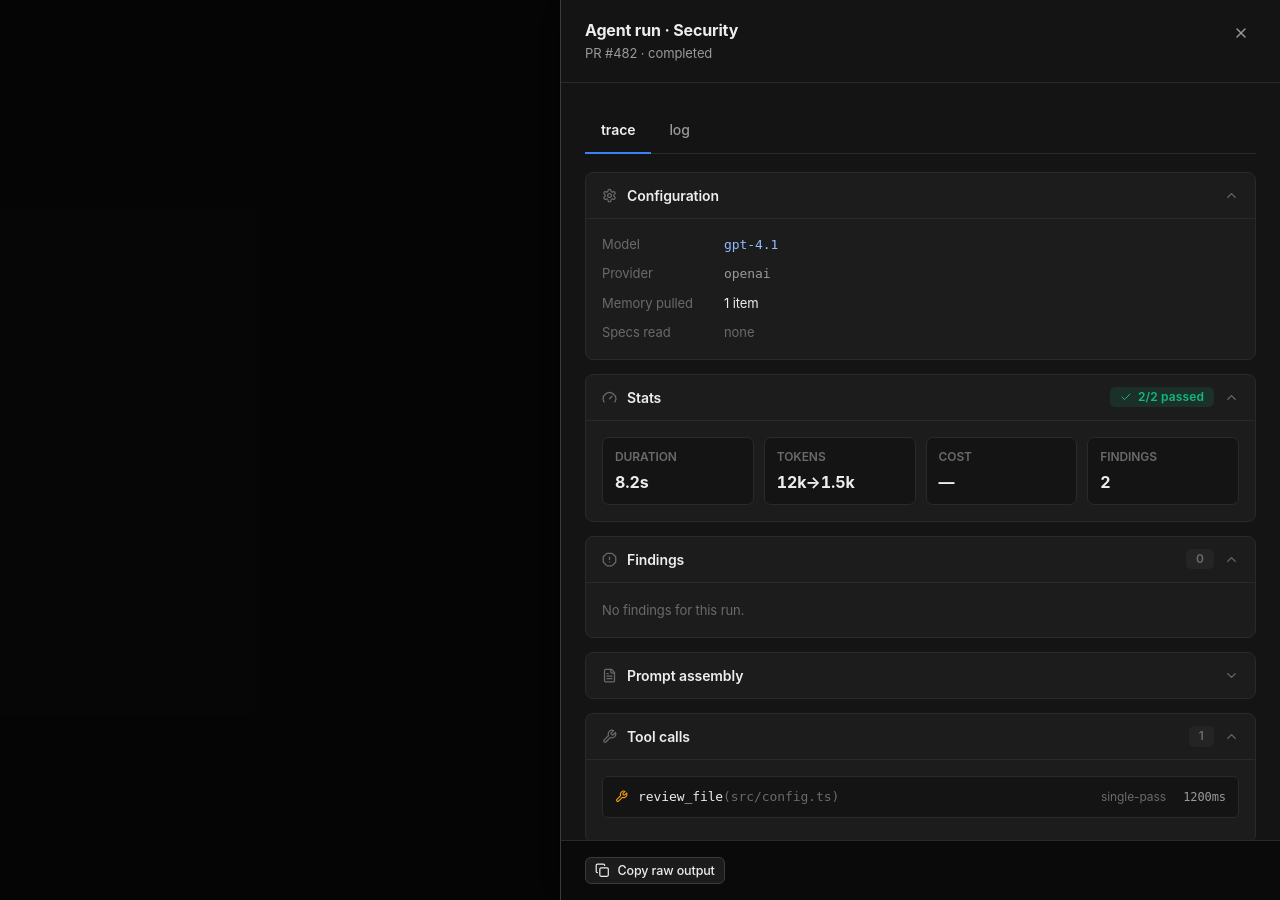
Run trace — Project context prompt row › is labelled as the attached, untrusted specs when the prompt holds project context (AC-79)
Click the text "Prompt assembly": (685, 676) [627,667,743,684]
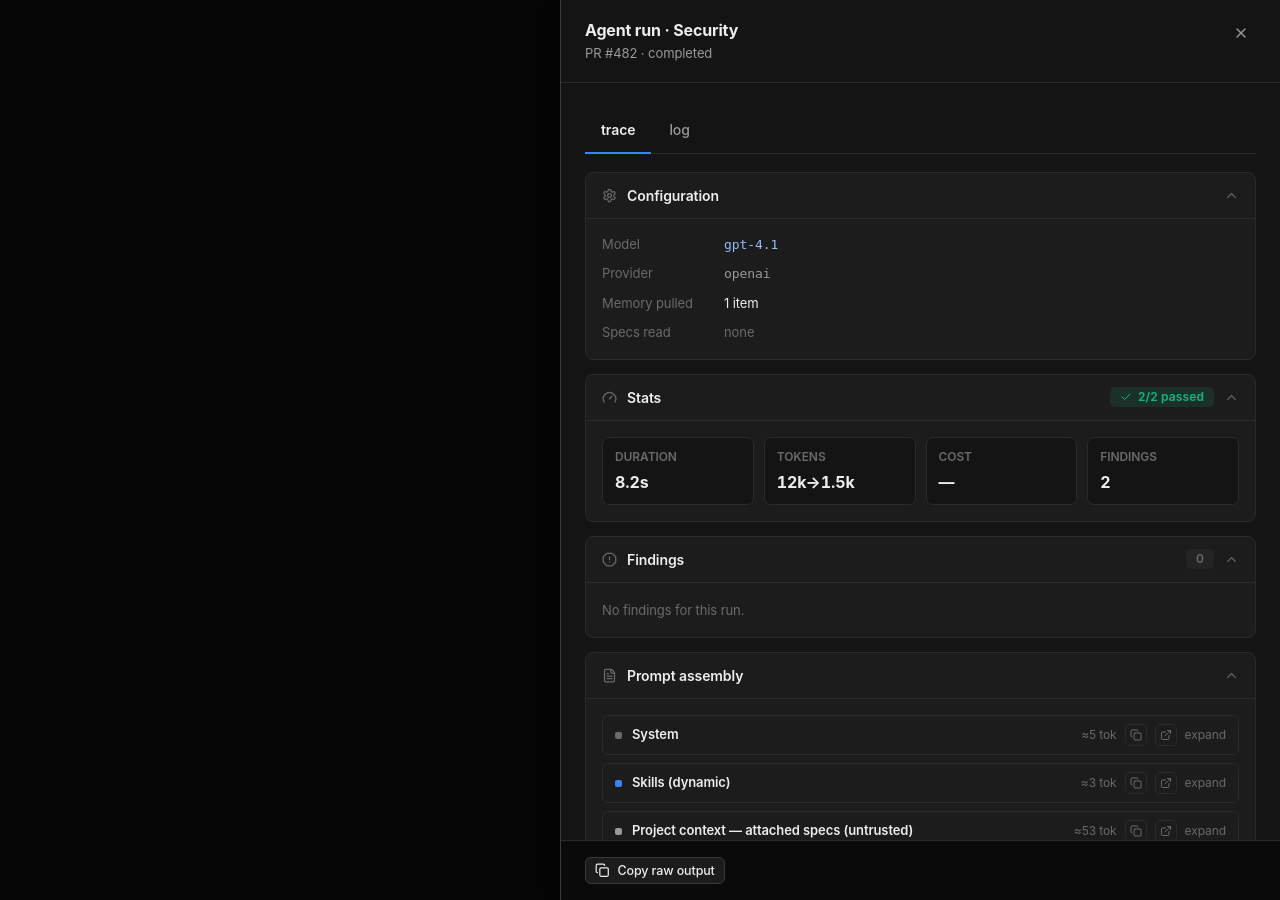
Check: the text "Project context — attached specs (untrusted)" is shown, box [632,821,913,840]
